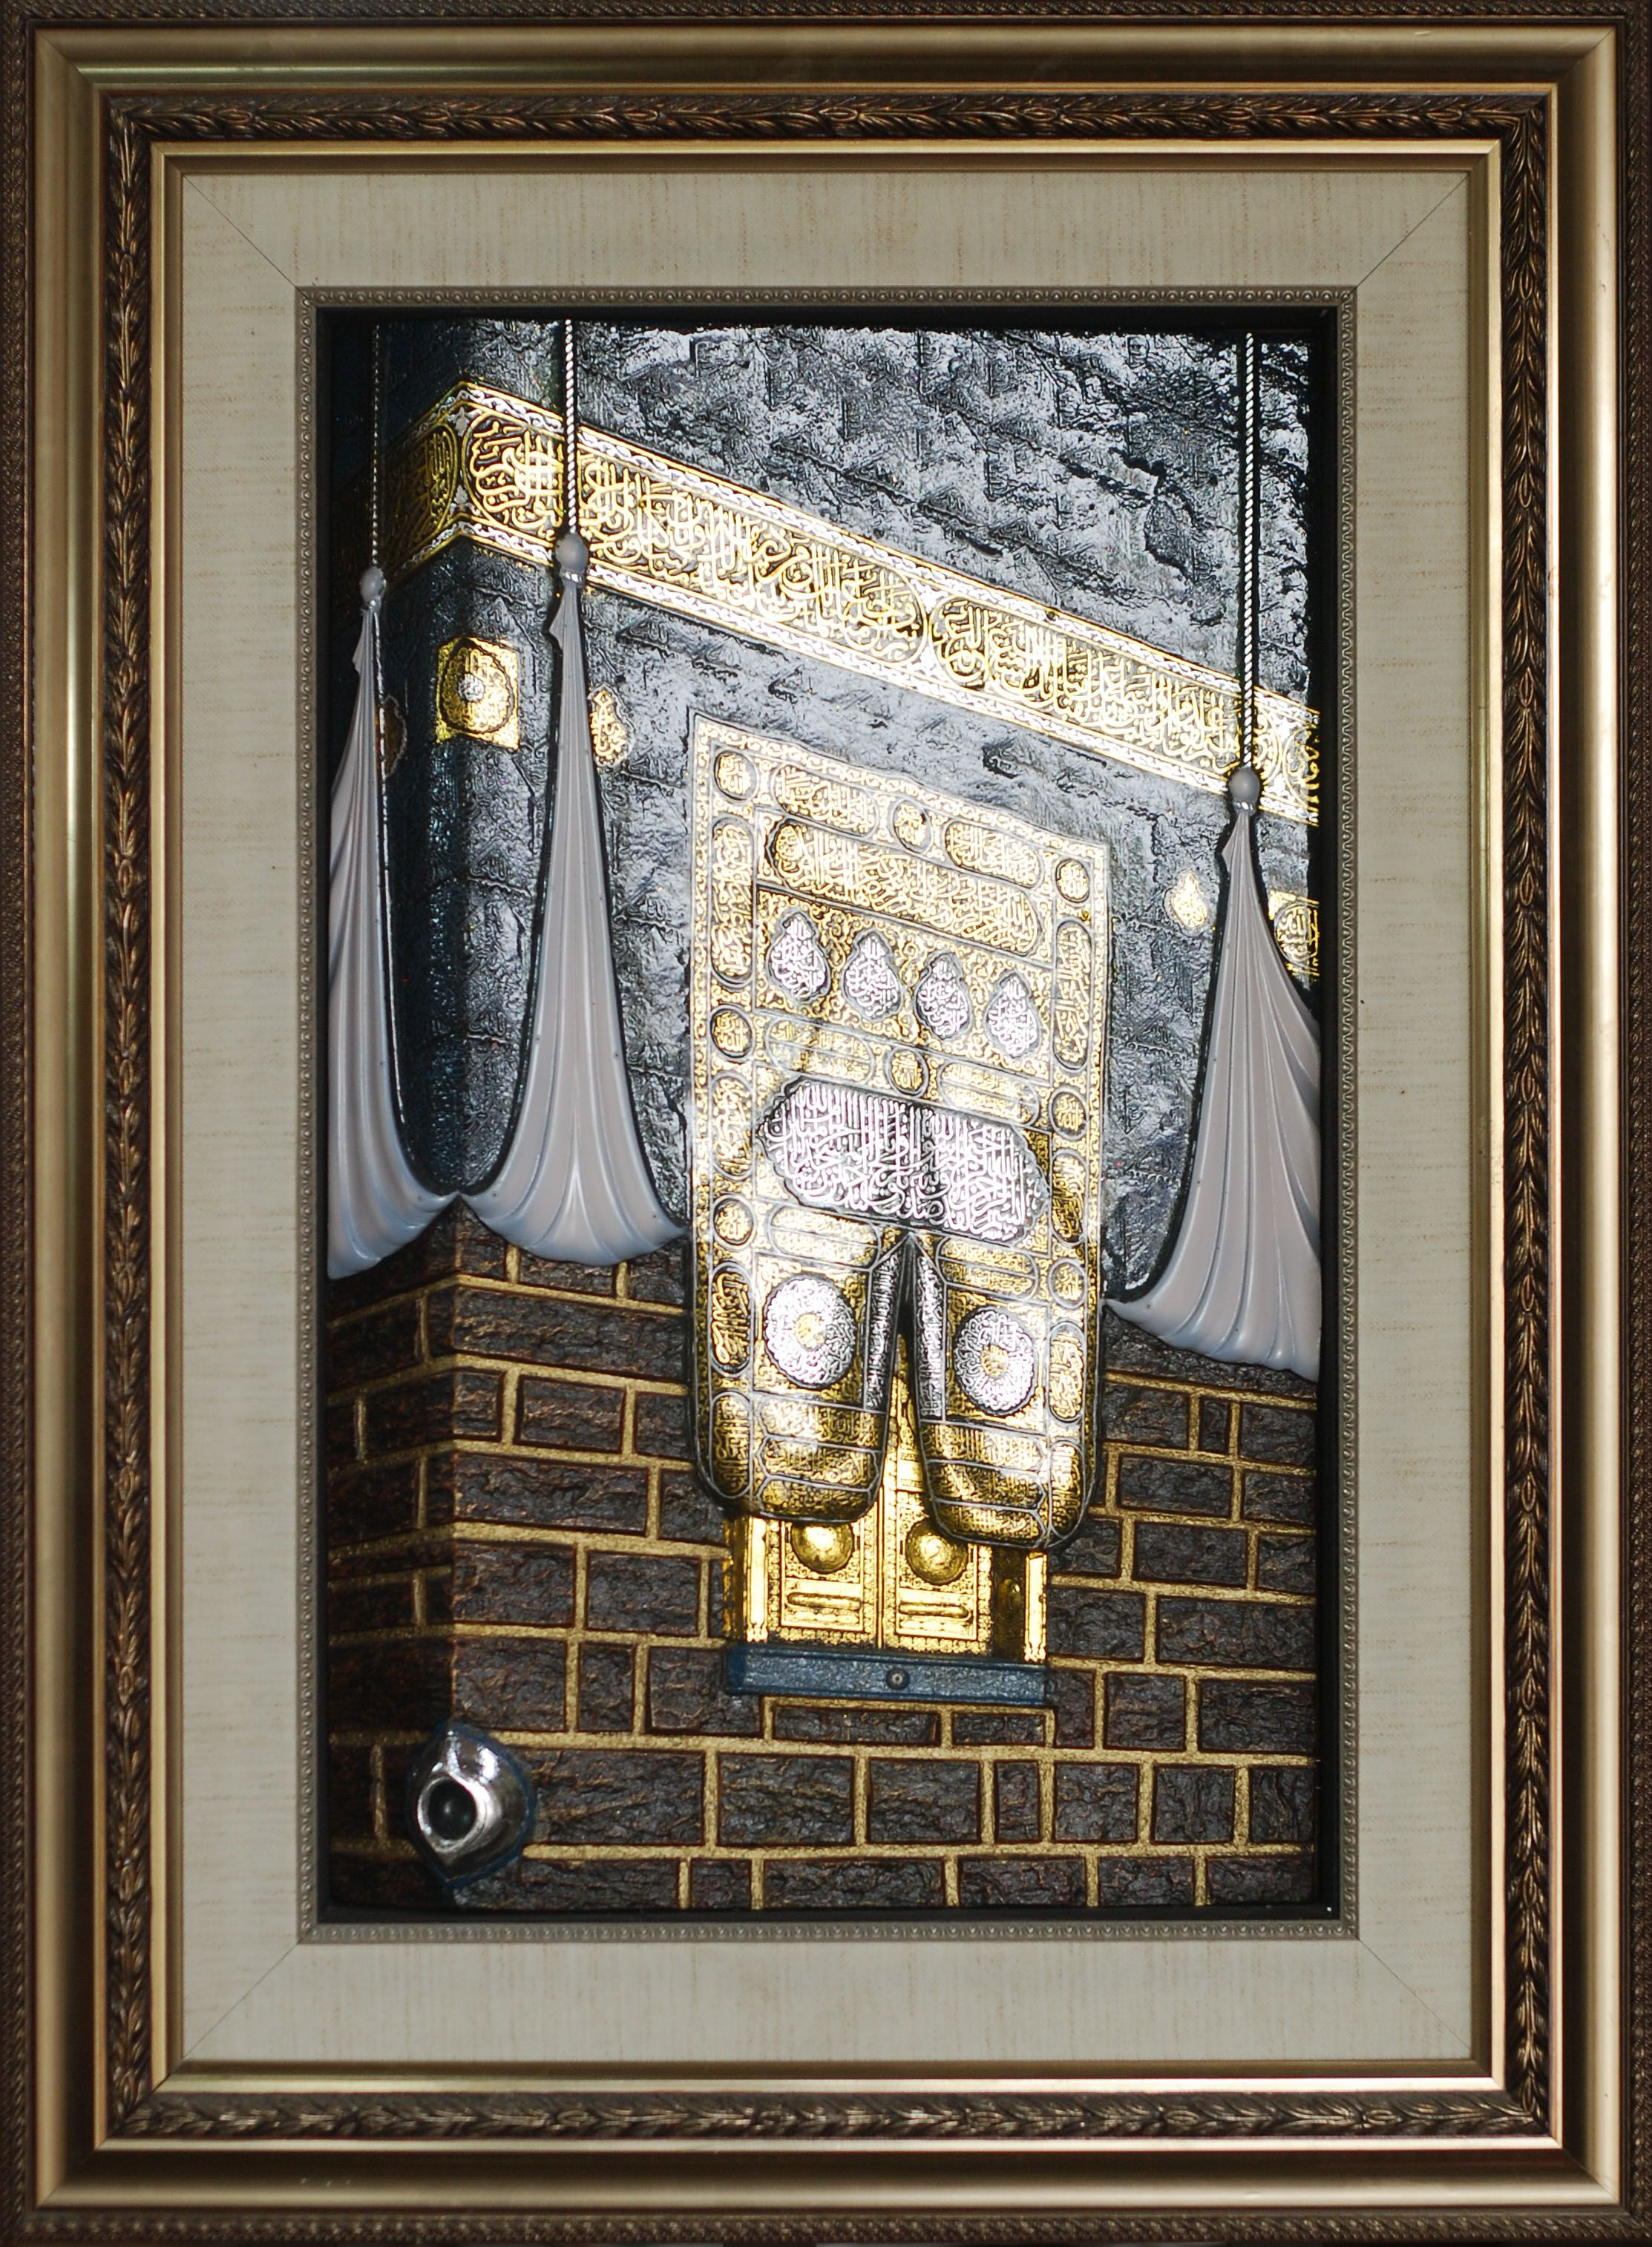lukisan: (0, 23, 1652, 2247)
